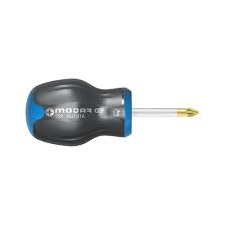screwdriver: (20, 59, 217, 150)
